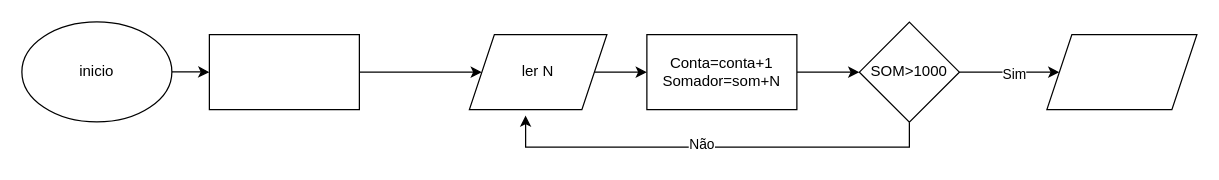
Image size: 1219x180. Some labels were removed from this diagram. Each missing label, with the box of its shape:
acumulado=0 contador=0: (208, 33, 359, 110)
media=som/con: (1046, 33, 1197, 110)
